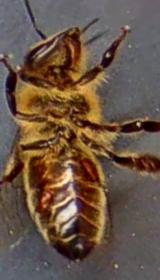varroa_mite: (74, 152, 102, 186), (29, 182, 54, 215)
